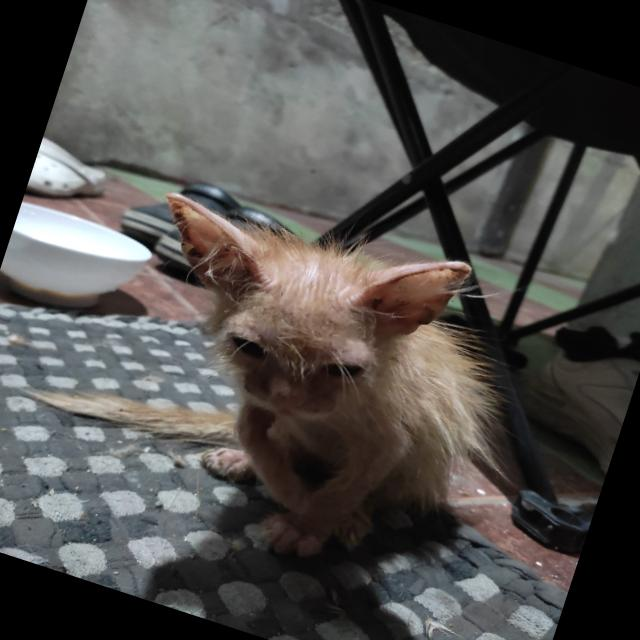Mange: (258, 250, 352, 316), (380, 247, 442, 293), (214, 443, 254, 473), (204, 212, 242, 241)
